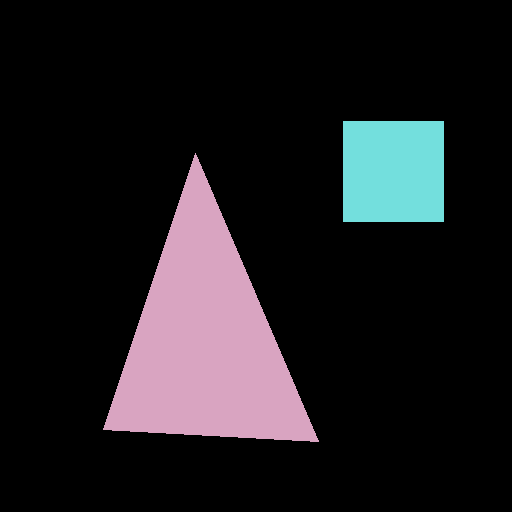square: (343, 121, 443, 221)
triangle: (103, 153, 318, 441)
